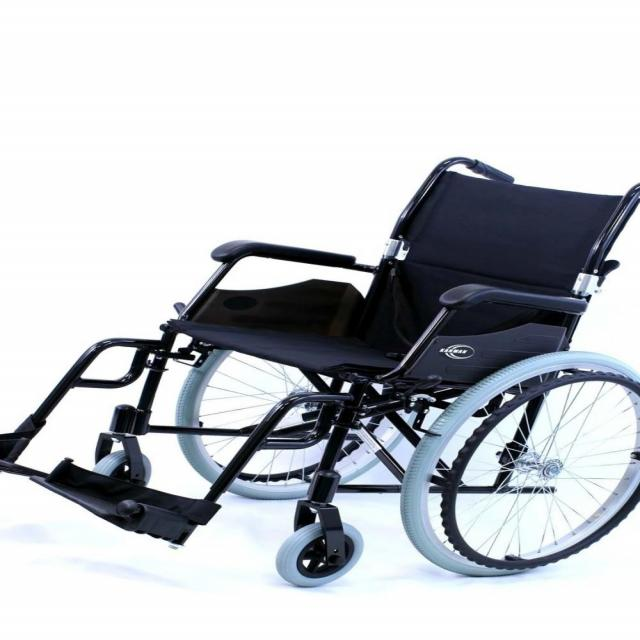wheelchair: (1, 138, 640, 596)
